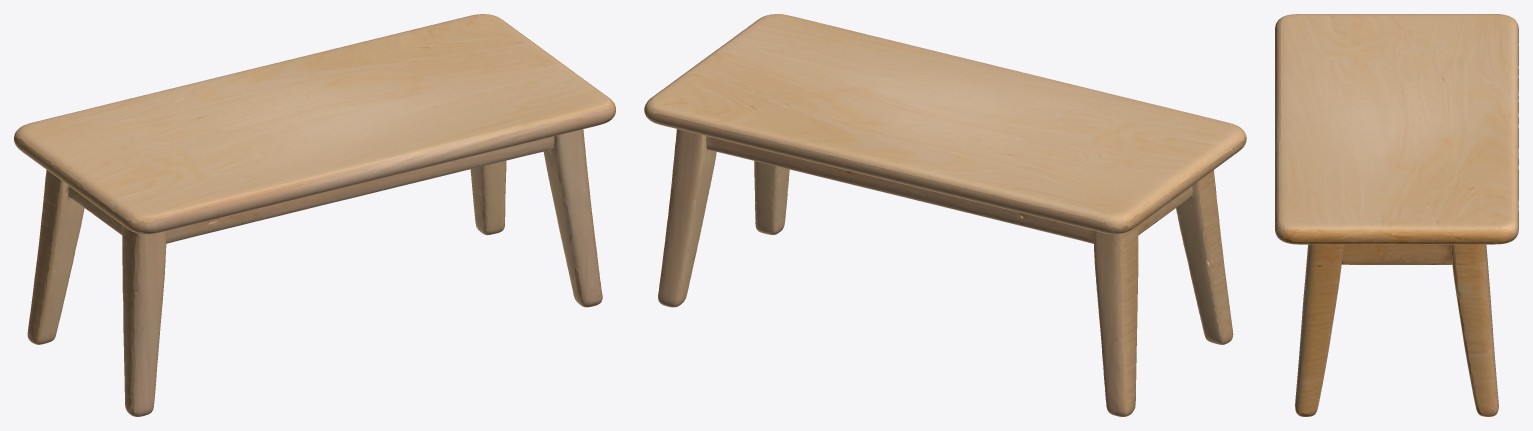
The model's file is L_COFFEE.japandi.glb.
3 renders of one model, left to right at view 1: azimuth 30°, elevation 25°; view 2: azimuth 150°, elevation 25°; view 3: azimuth 270°, elevation 25°, orthographic. The views are drawn at different scales.
Parts seen in each view (by area): view 1: geometry_0; view 2: geometry_0; view 3: geometry_0.
Part boxes in pixels (left/top/right/bottom): geometry_0: left=14, top=14, right=615, bottom=416; geometry_0: left=644, top=14, right=1246, bottom=416; geometry_0: left=1275, top=14, right=1518, bottom=416.
Size of the model in its own units: 1.2 by 0.4917 by 0.5634.
1 material, 1 textured.
